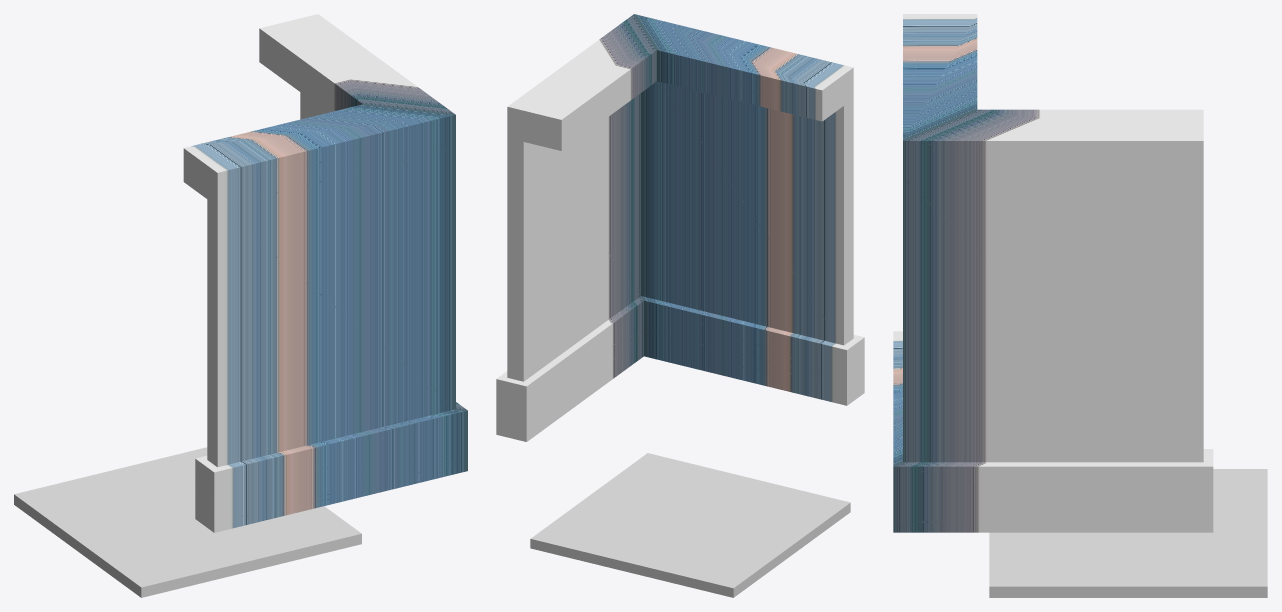
The model's file is wall.gltf.
The picture shows the model from 3 angles, left to right: view 1: azimuth 30°, elevation 25°; view 2: azimuth 150°, elevation 25°; view 3: azimuth 270°, elevation 25°; orthographic projection. The views are drawn at different scales.
Parts seen in each view (by area): view 1: 平面.001, 平面; view 2: 平面.001, 平面; view 3: 平面.001, 平面.
Boxes of the visible parts, left/top/right/bottom form: 平面.001: left=183, top=14, right=467, bottom=532; 平面: left=14, top=447, right=361, bottom=597; 平面.001: left=496, top=14, right=864, bottom=441; 平面: left=530, top=453, right=850, bottom=597; 平面.001: left=893, top=14, right=1213, bottom=532; 平面: left=989, top=469, right=1267, bottom=597.
Bounding box in the file's own units: 2.56 × 3.86 × 2.69.
1 material, 1 textured.
